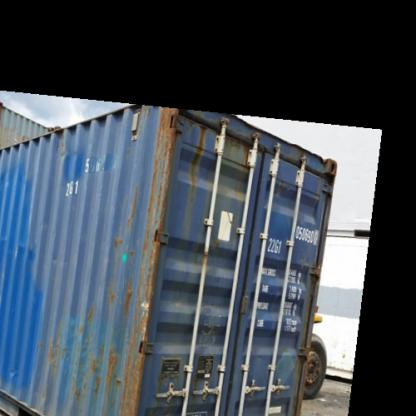Damage: (122, 110, 180, 402), (86, 218, 146, 322), (77, 326, 129, 394), (27, 323, 84, 380)
